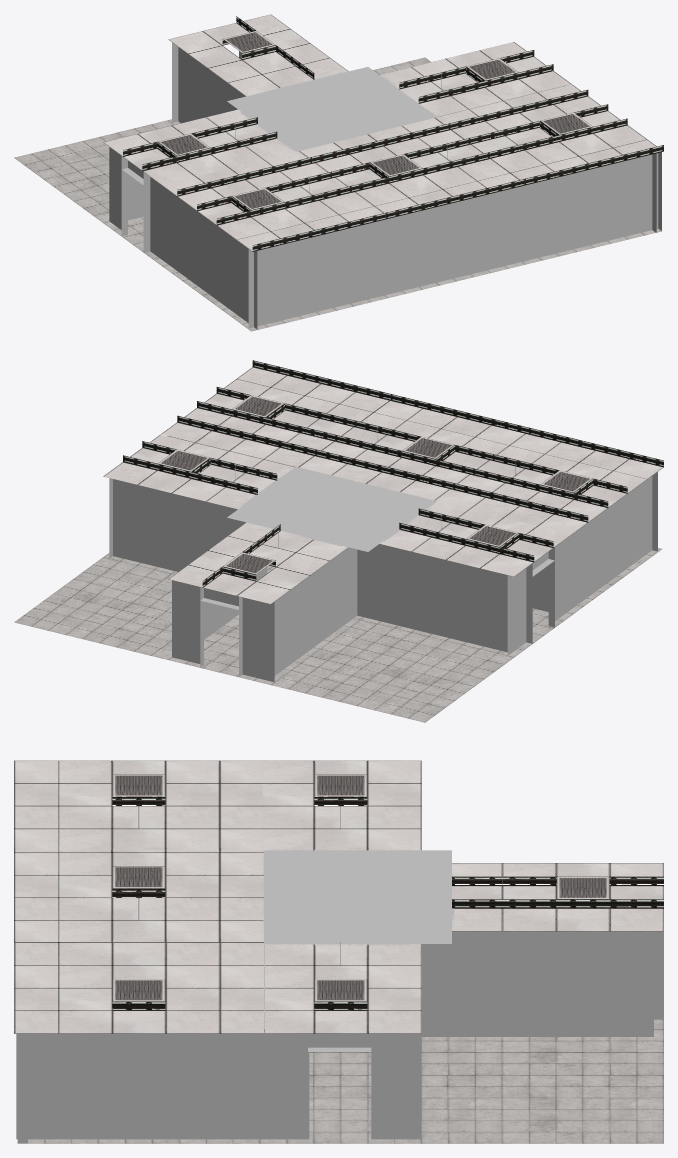
File: room3offices_opt.fbx
The picture shows the model from 3 angles, top to bottom: view 1: azimuth 30°, elevation 25°; view 2: azimuth 150°, elevation 25°; view 3: azimuth 270°, elevation 25°; orthographic projection. The views are drawn at different scales.
Parts seen in each view (by area): view 1: Scene_Root; view 2: Scene_Root; view 3: Scene_Root.
Boxes of the visible parts, left/top/right/bottom form: Scene_Root: left=14, top=14, right=663, bottom=331; Scene_Root: left=14, top=360, right=663, bottom=722; Scene_Root: left=14, top=760, right=663, bottom=1143.
Size of the model in its own units: 1485 by 337 by 1493.
